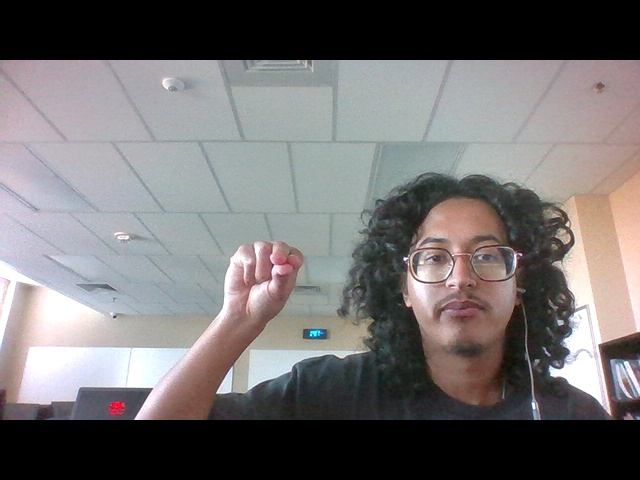no: (218, 229, 317, 330)
